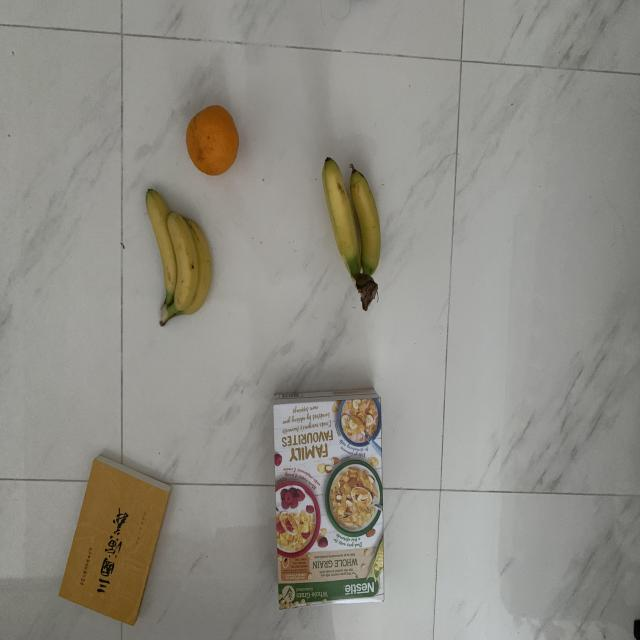Banana: (140, 186, 216, 328), (318, 152, 383, 308)
Book: (58, 452, 172, 627)
Cerealbox: (269, 386, 386, 612)
Orange: (183, 105, 240, 179)
